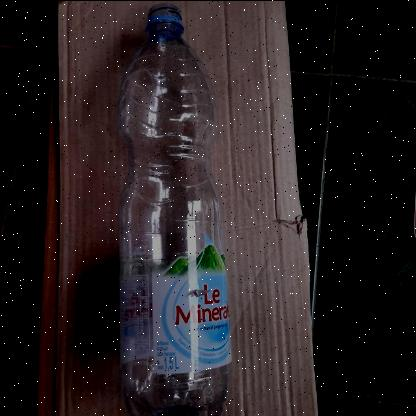Plastic Bottle: (117, 0, 231, 416)
